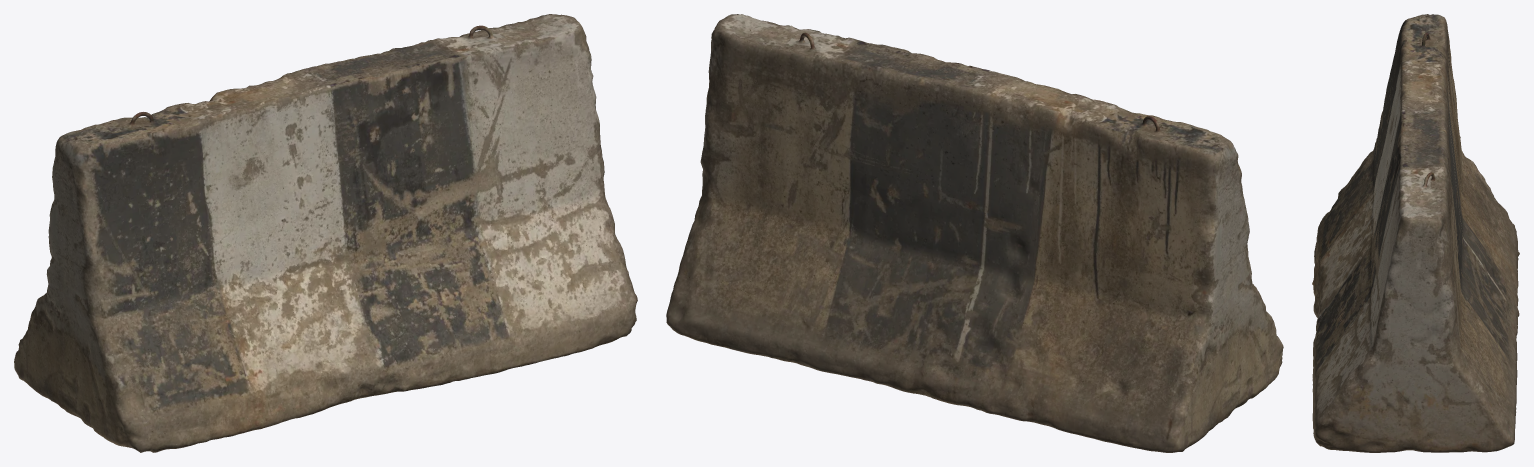
File: concrete_road_barrier.gltf
3 views of the same model, side by side, from view 1: azimuth 30°, elevation 25°; view 2: azimuth 150°, elevation 25°; view 3: azimuth 270°, elevation 25° (orthographic). The views are drawn at different scales.
Parts seen in each view (by area): view 1: concrete_road_barrier; view 2: concrete_road_barrier; view 3: concrete_road_barrier.
Part boxes in pixels (box(x1,y1,x2,y2)): concrete_road_barrier: box(14, 14, 637, 452); concrete_road_barrier: box(666, 14, 1283, 452); concrete_road_barrier: box(1312, 14, 1519, 452).
Bounding box in the file's own units: 1.55 × 0.831 × 0.6387.
1 material, 1 textured.
